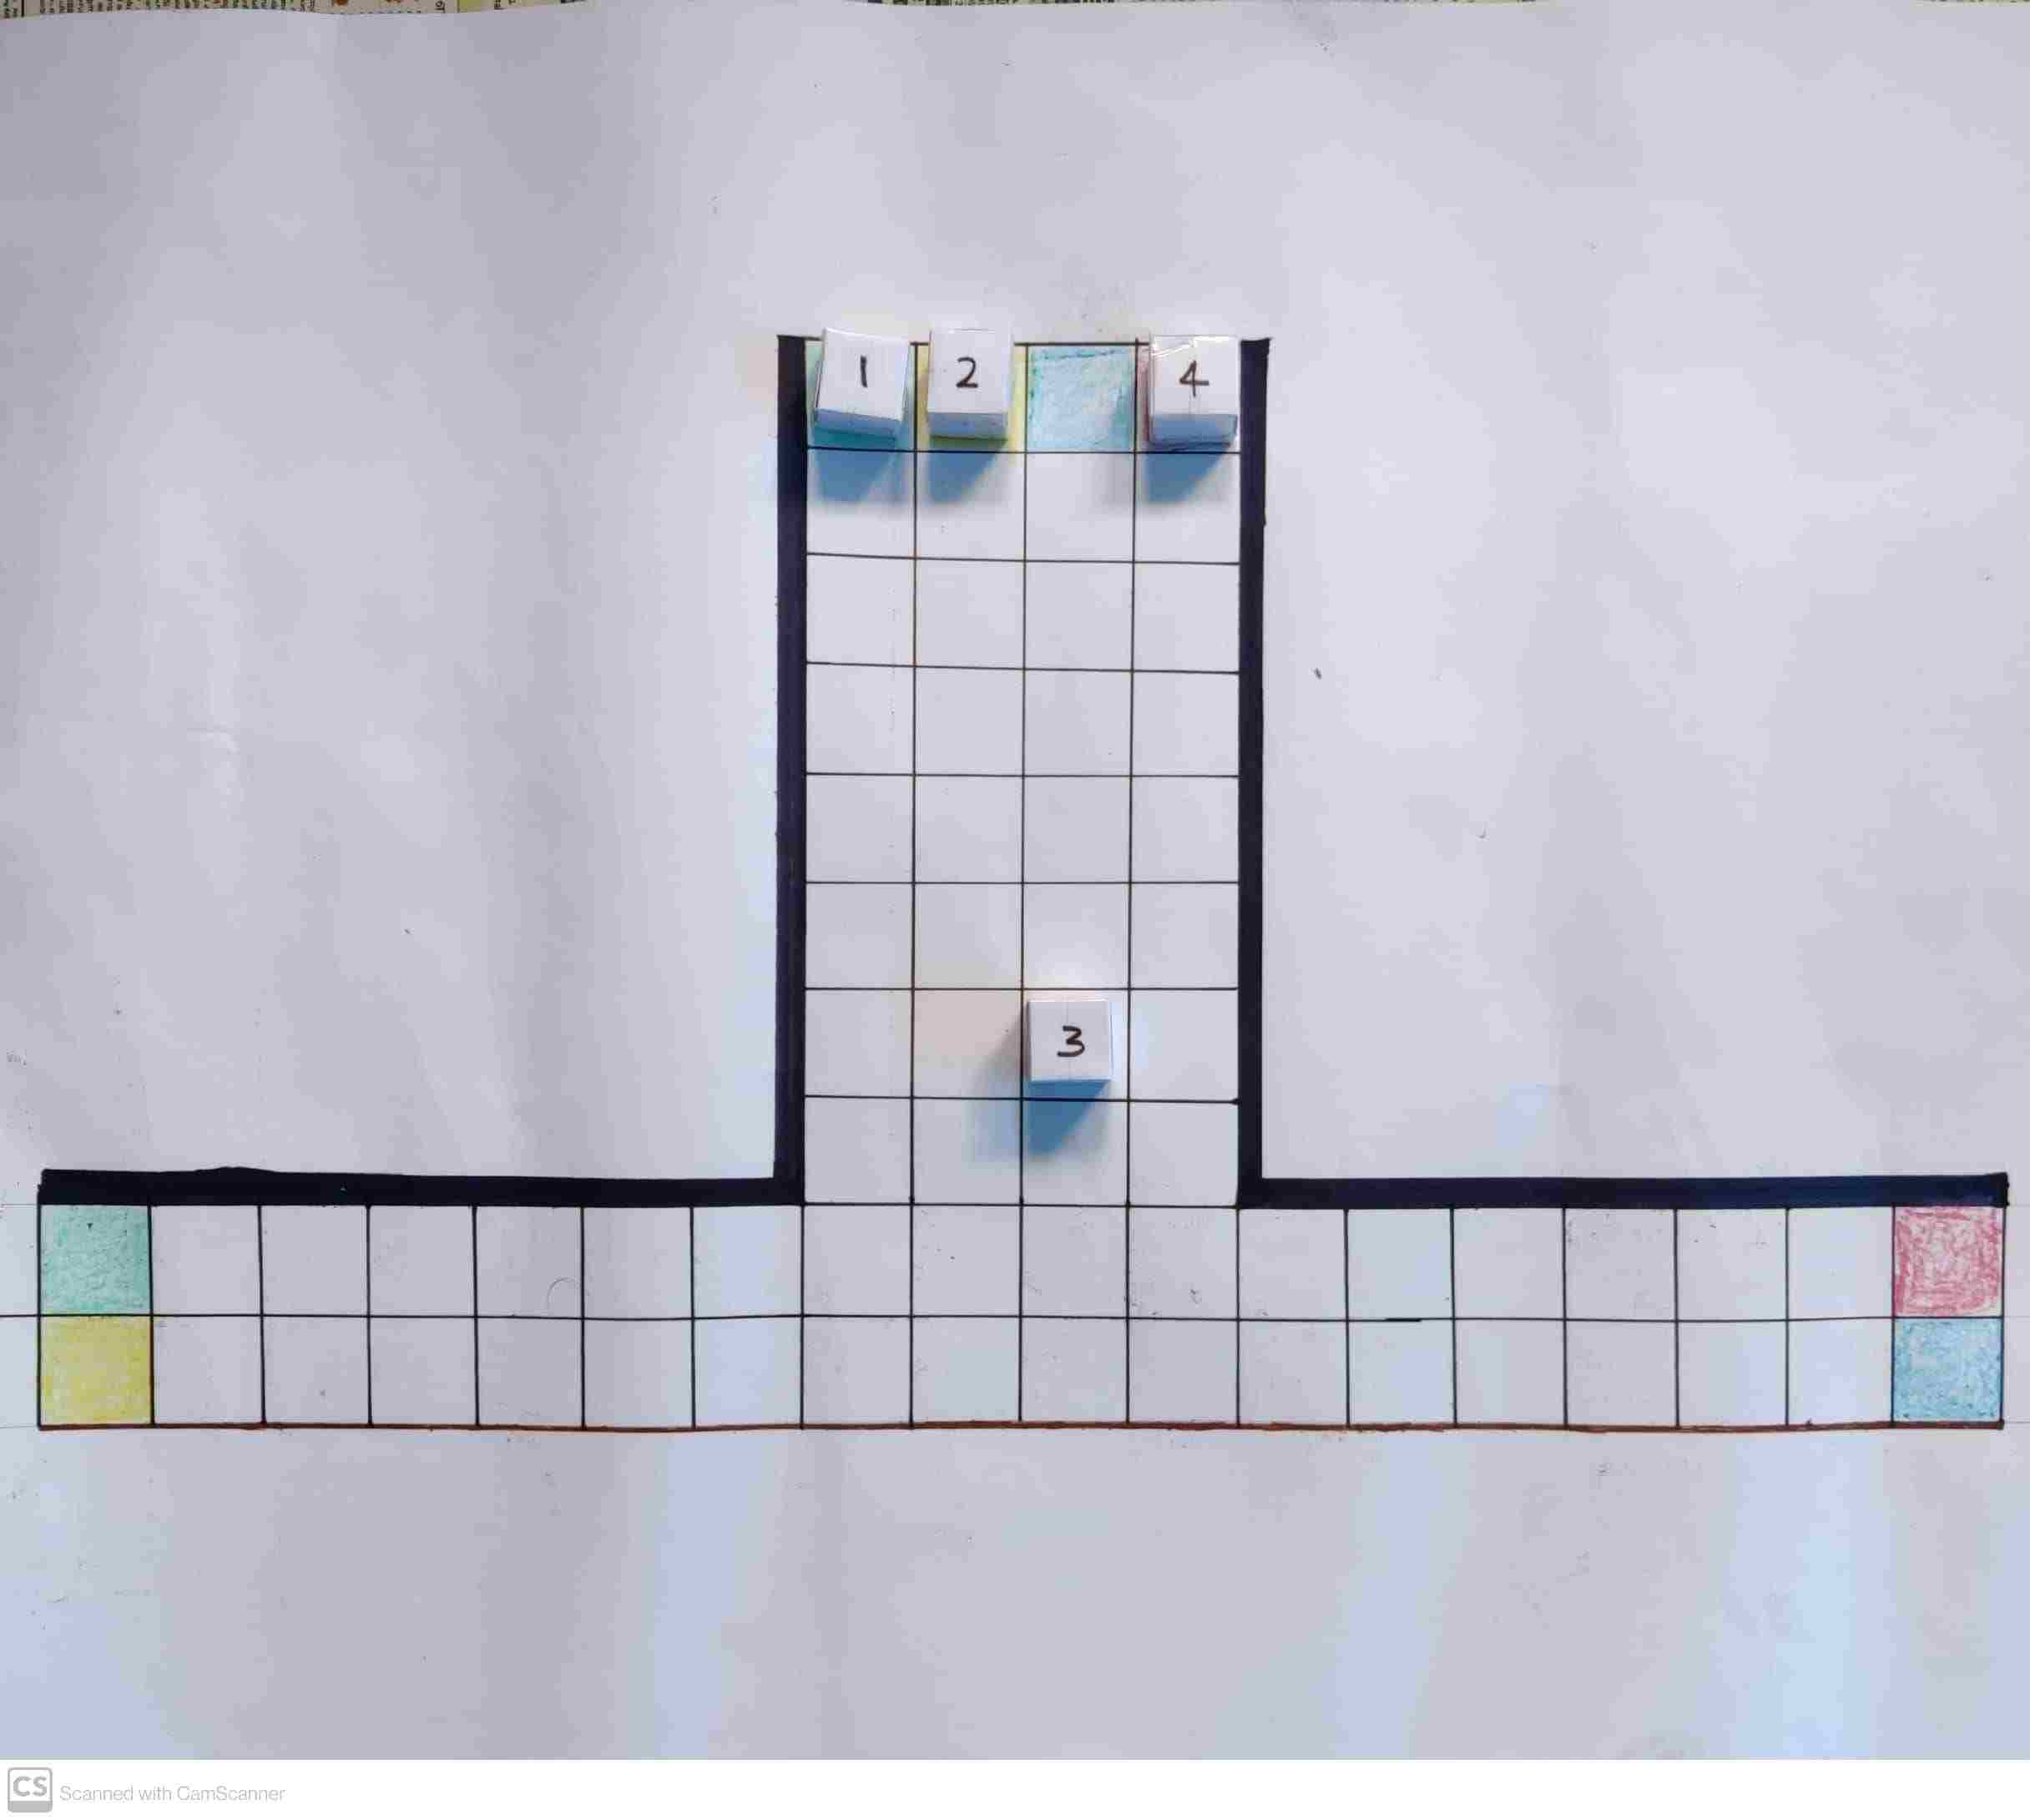arena: (39, 339, 2005, 1419)
bot: (927, 332, 1013, 418), (822, 337, 910, 418), (1154, 337, 1240, 415), (1026, 1005, 1106, 1082)
